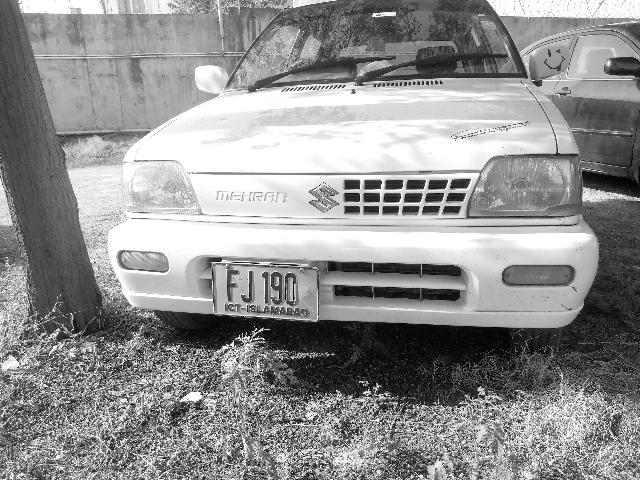Number: (223, 270, 304, 306)
